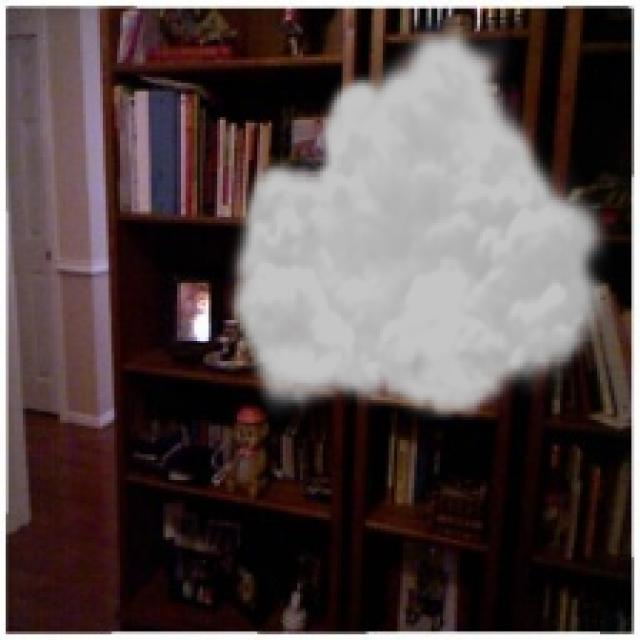smoke: (223, 17, 617, 423)
